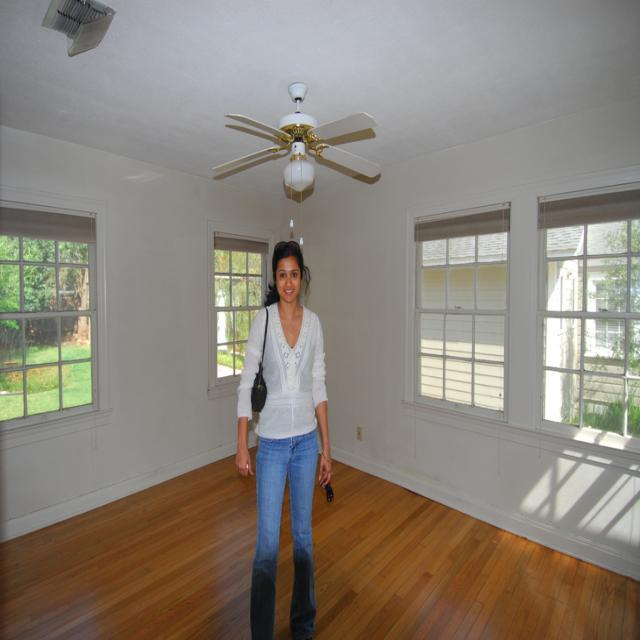fan_off: (218, 78, 387, 183)
